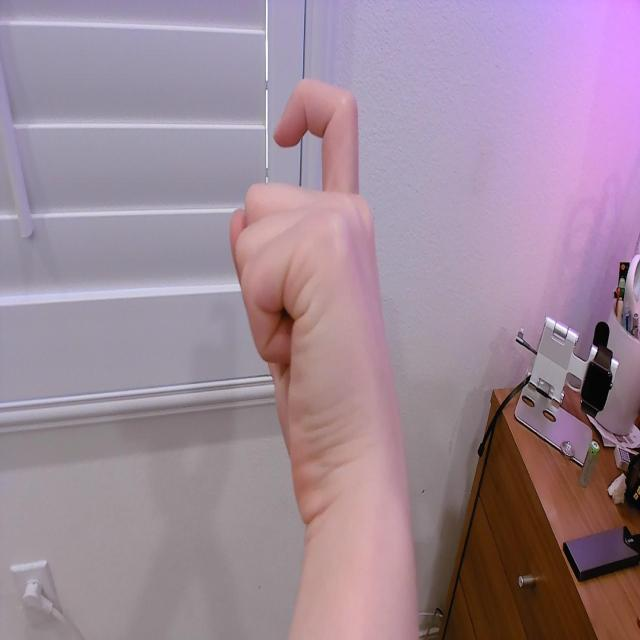X: (229, 74, 397, 484)
